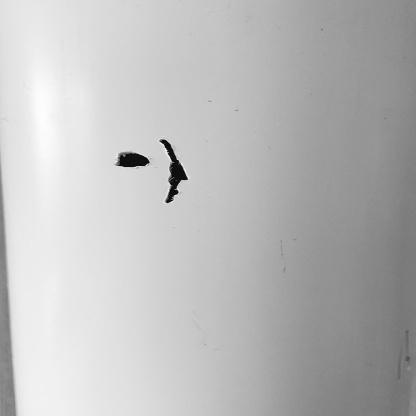kongdong: (162, 131, 188, 208), (112, 144, 155, 173)
